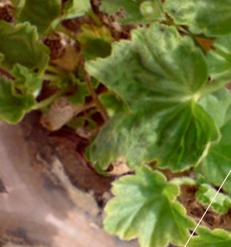Tomato leaf mosaic virus: (40, 1, 231, 219), (89, 149, 210, 247)
